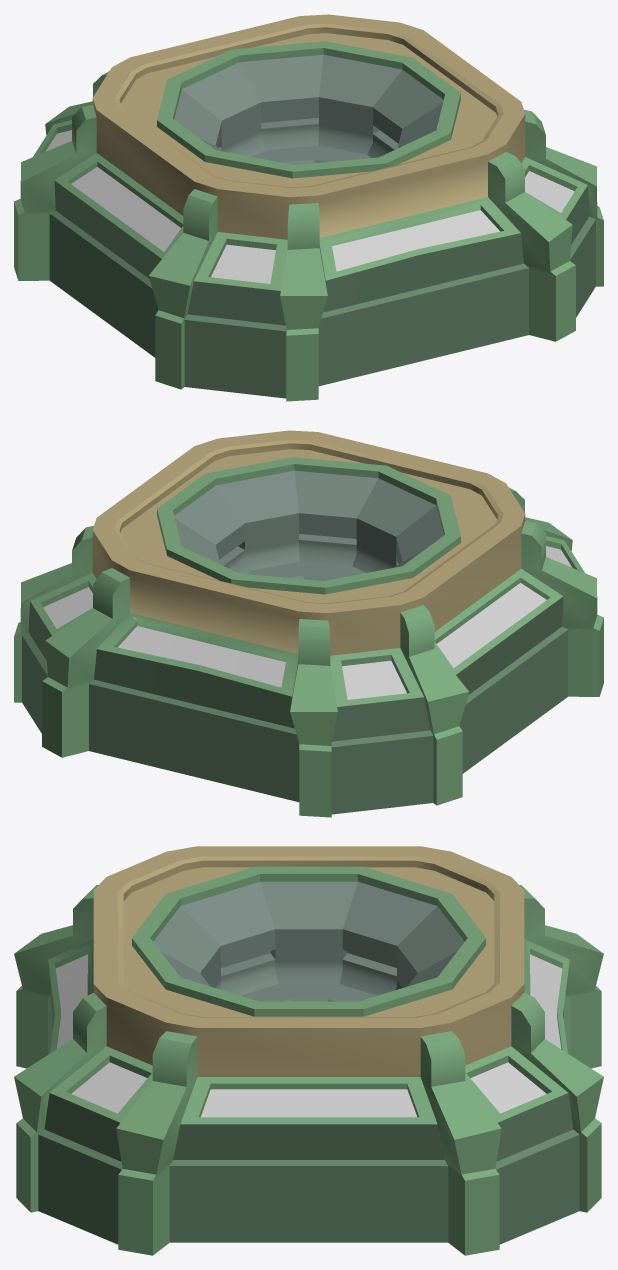
File: Pedestal.fbx
3 views of the same model, one above another, from view 1: azimuth 30°, elevation 25°; view 2: azimuth 150°, elevation 25°; view 3: azimuth 270°, elevation 25° (orthographic). The views are drawn at different scales.
Parts seen in each view (by area): view 1: Pedestal, Pedestal.001; view 2: Pedestal, Pedestal.001; view 3: Pedestal, Pedestal.001.
Boxes of the visible parts, <box> form: Pedestal: <box>14,14,603,401</box>; Pedestal.001: <box>45,130,574,283</box>; Pedestal: <box>14,430,603,817</box>; Pedestal.001: <box>43,546,572,699</box>; Pedestal: <box>14,846,603,1255</box>; Pedestal.001: <box>55,954,562,1117</box>.
Bounding box in the file's own units: 112 × 41.02 × 112.
